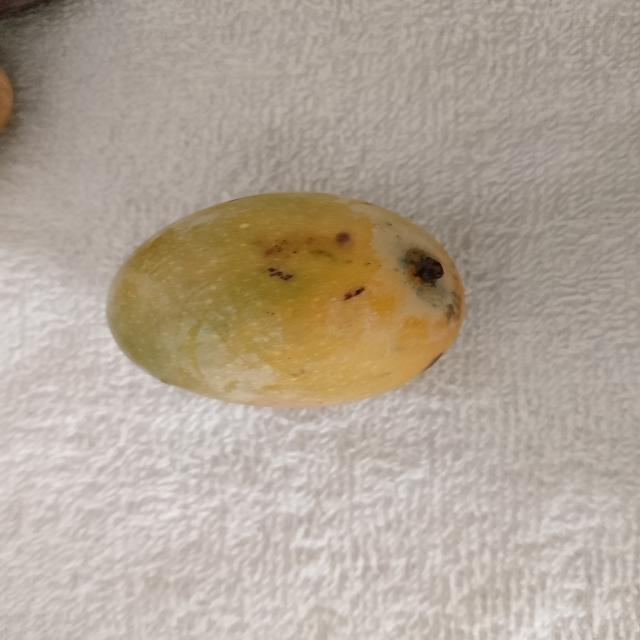mango: (108, 193, 464, 406)
